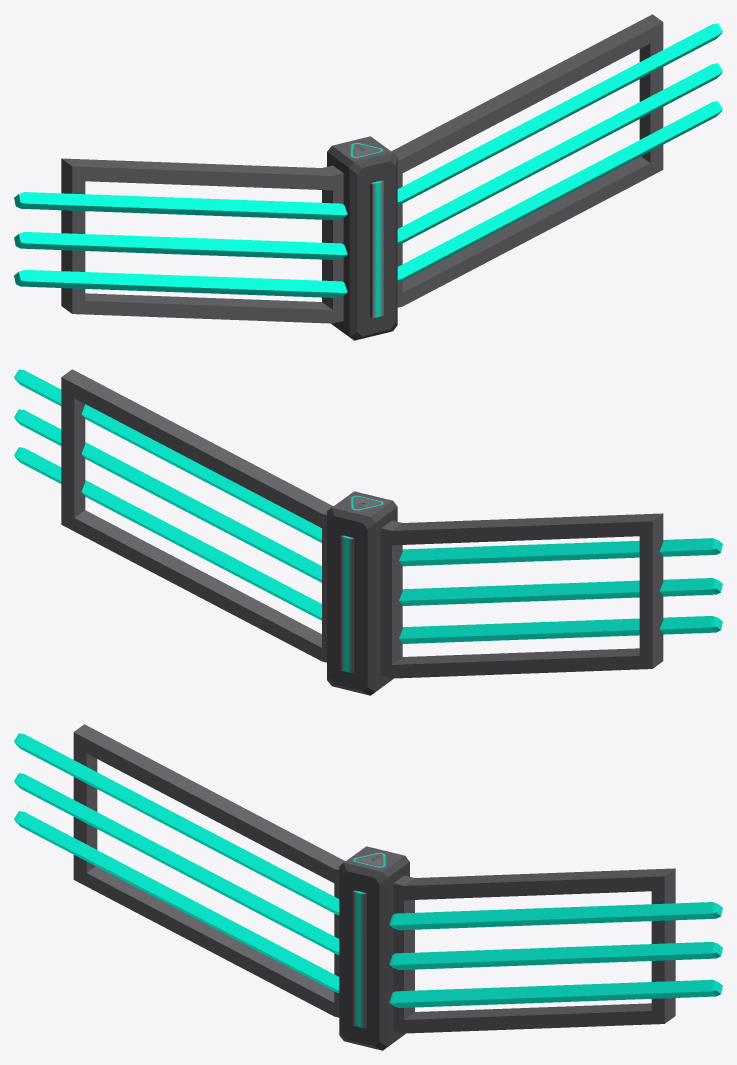
File: SM_Prop_Lamp_07.fbx
3 renders of one model, top to bottom at view 1: azimuth 30°, elevation 25°; view 2: azimuth 150°, elevation 25°; view 3: azimuth 330°, elevation 25°, orthographic.
Parts seen in each view (by area): view 1: SM_Prop_Lamp_07; view 2: SM_Prop_Lamp_07; view 3: SM_Prop_Lamp_07.
Boxes of the visible parts, x1,y1,x2,y2 form: SM_Prop_Lamp_07: [14, 14, 722, 340]; SM_Prop_Lamp_07: [14, 369, 722, 695]; SM_Prop_Lamp_07: [14, 724, 722, 1050].
Size of the model in its own units: 369 by 119 by 28.63.
